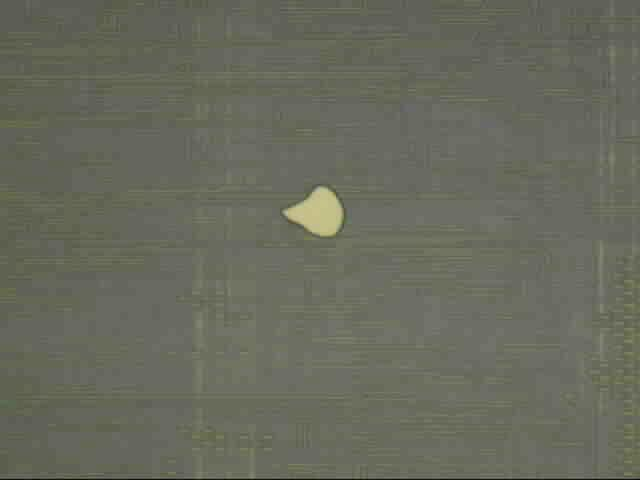BLOCK ETCH: (278, 181, 348, 242)
